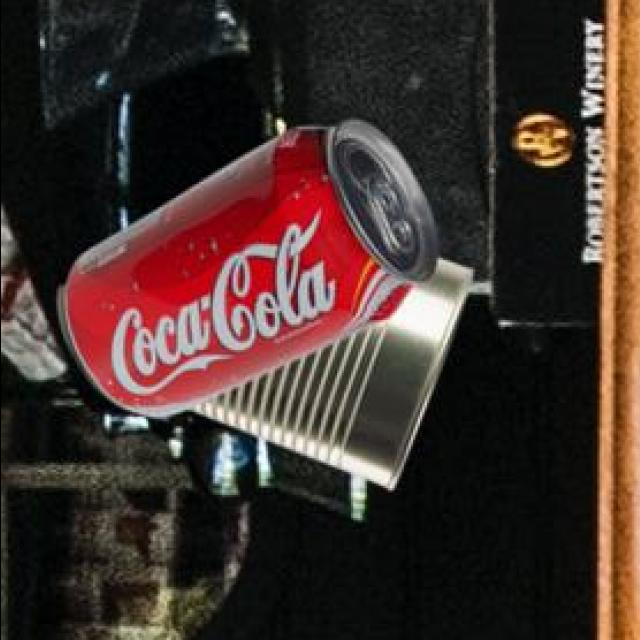logam: (54, 123, 434, 420), (183, 261, 468, 494)
